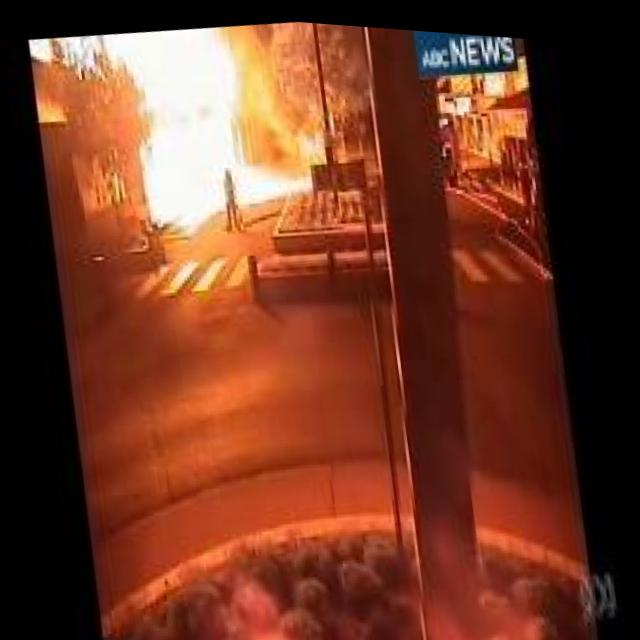fire: (86, 8, 330, 255)
